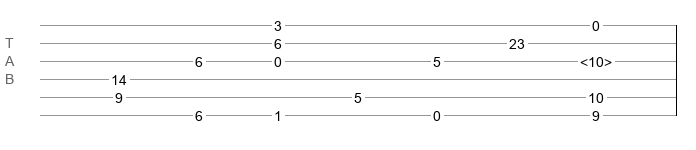0: (274, 54, 282, 64), (433, 108, 441, 118), (592, 18, 600, 28)
1: (274, 108, 282, 118)
10: (588, 90, 604, 100)
14: (111, 72, 127, 82)
23: (509, 36, 525, 46)
3: (274, 18, 282, 28)
5: (354, 90, 362, 100), (433, 54, 441, 64)
6: (195, 54, 203, 64), (195, 108, 203, 118), (274, 36, 282, 46)
9: (115, 90, 123, 100), (592, 108, 600, 118)
harmonic: (580, 54, 612, 64)
